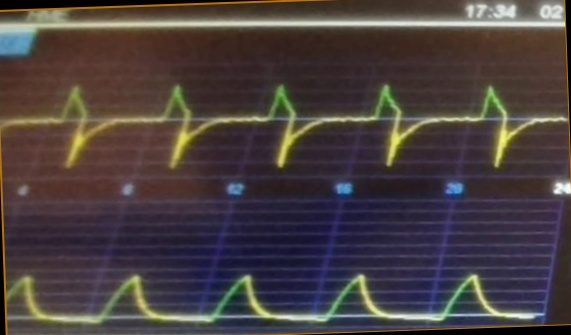Accumulation Flow: (7, 77, 566, 174)
Volume: (9, 260, 537, 324)
